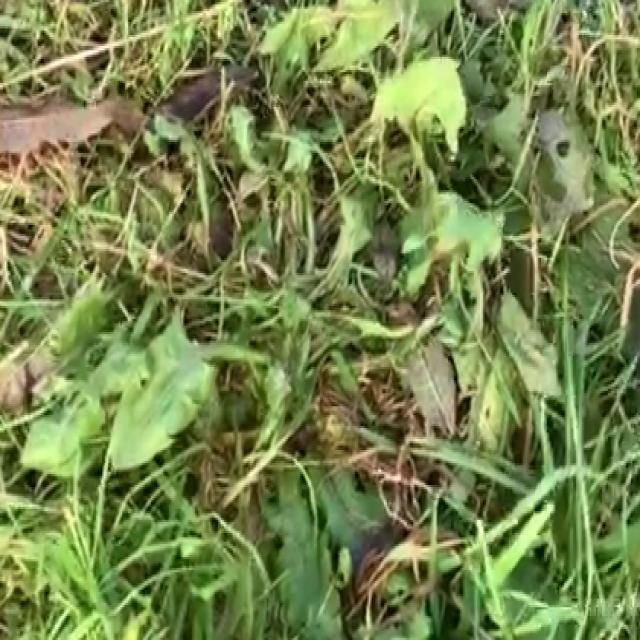organic waste: (247, 0, 561, 330)
